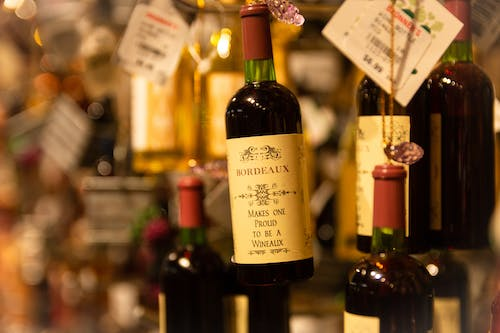alcohol: (224, 2, 317, 288), (427, 0, 497, 249), (342, 164, 436, 333), (353, 74, 427, 255), (157, 176, 233, 333)
